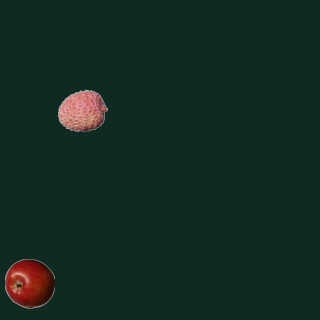Apple Braeburn: (4, 258, 54, 308)
Lychee: (57, 85, 107, 135)
